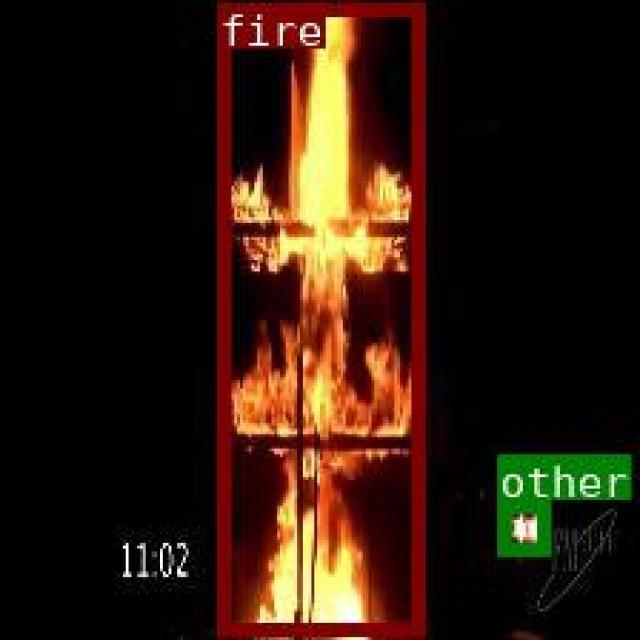fire: (215, 1, 423, 634)
